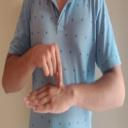hand: (24, 83, 76, 114), (31, 43, 64, 89)
